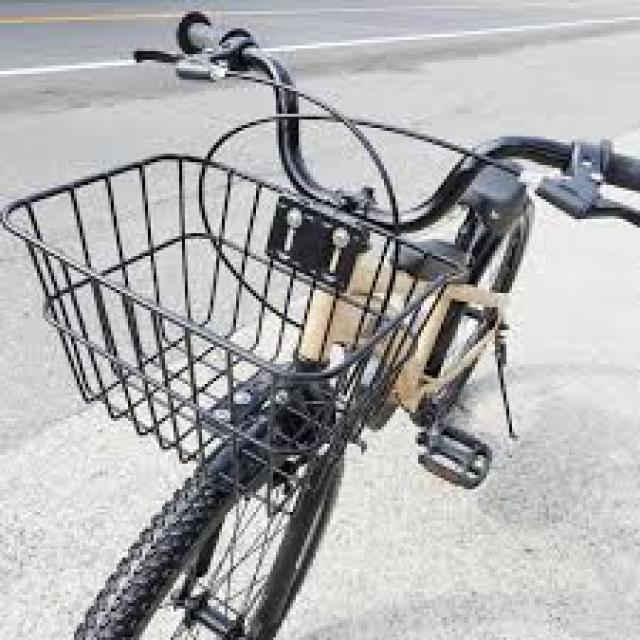basket: (1, 152, 468, 515)
